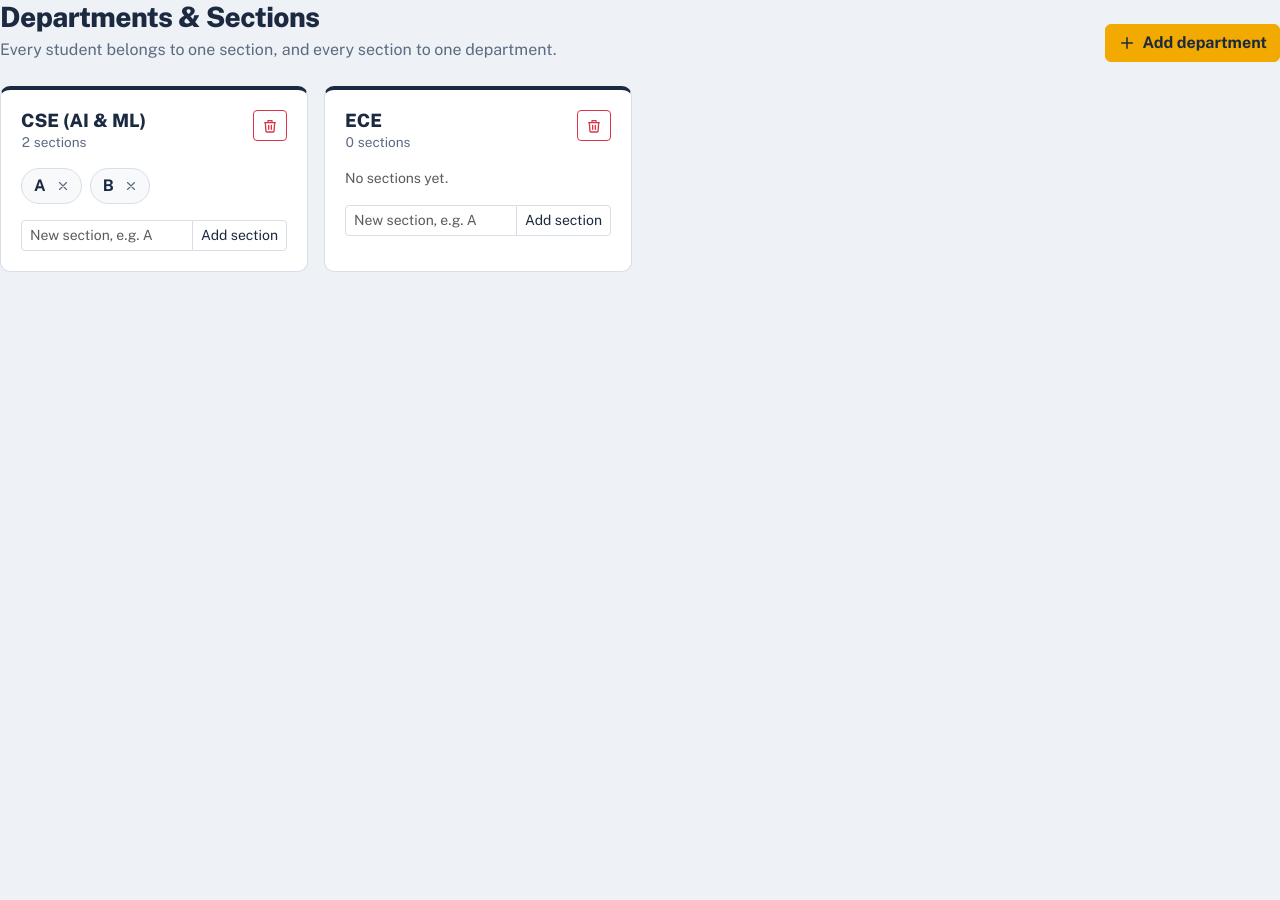
Scenario: Departments & Sections page (F-004) › deletes a department after confirmation
The width and height of the screenshot is (1280, 900).
Click the button named "Delete ECE".
click(594, 125)  # box [577,110,611,141]
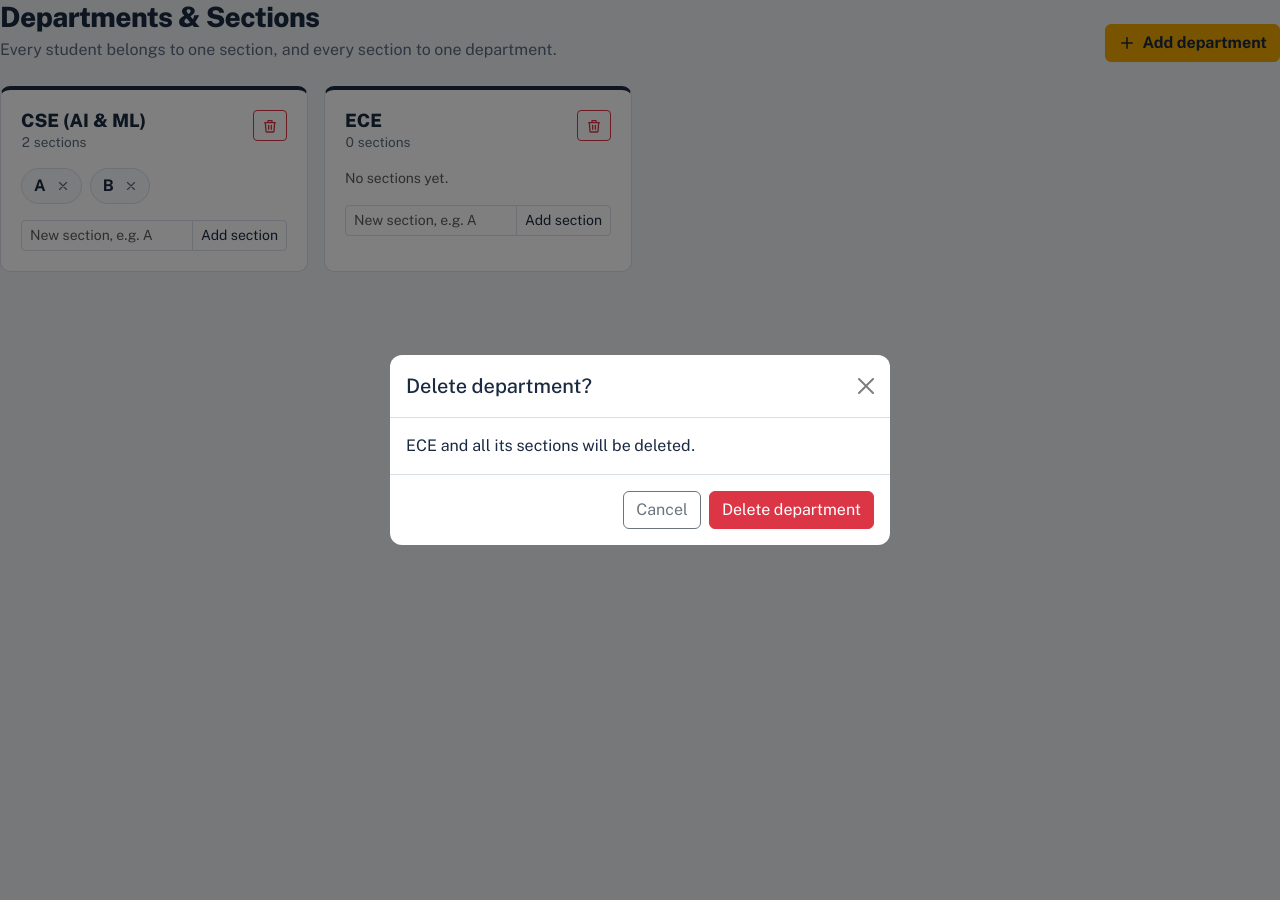
Click the button "Delete department".
click(791, 510)  # box [709,491,874,529]
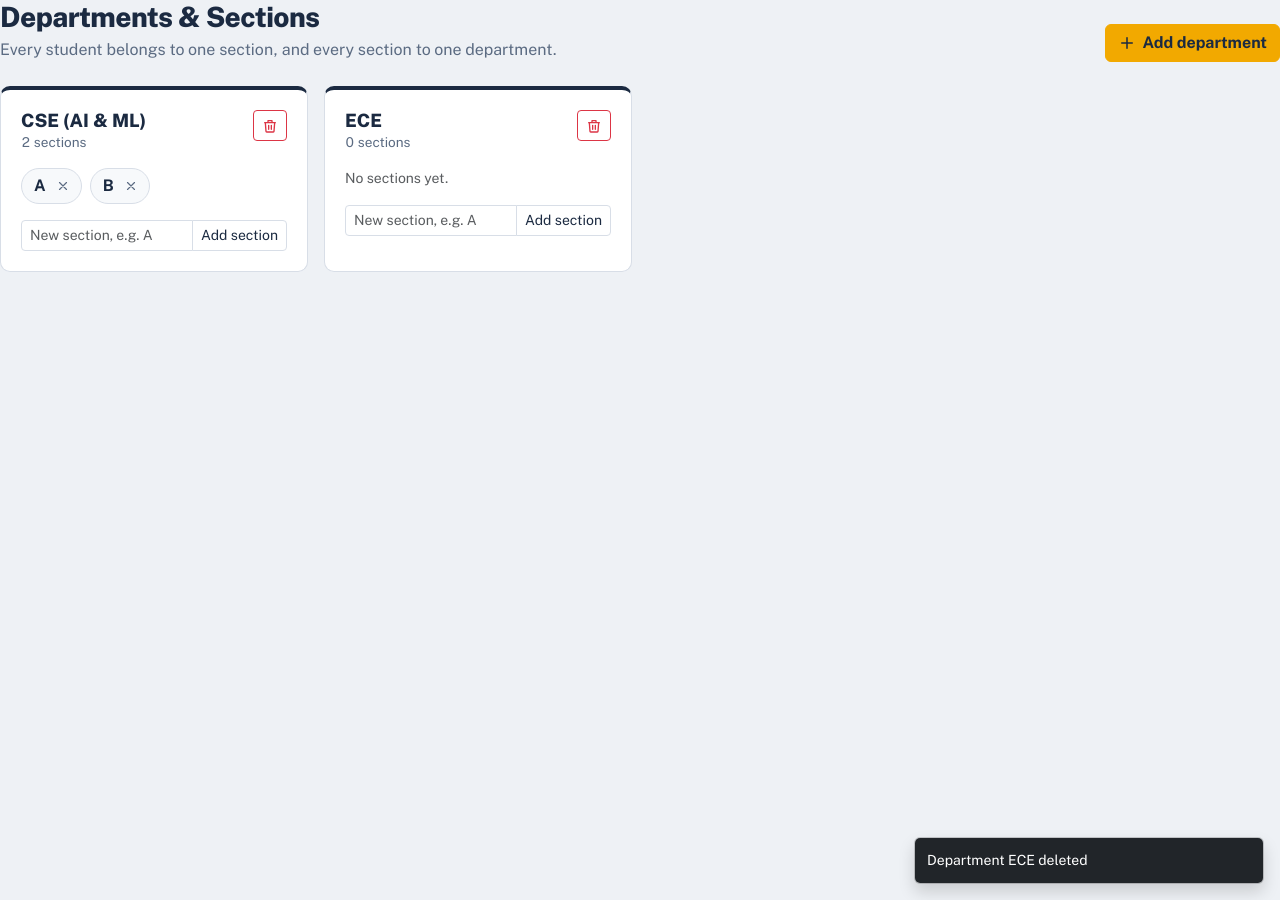
Expected: the text "Department ECE deleted" is shown, [927,852,1088,868]
